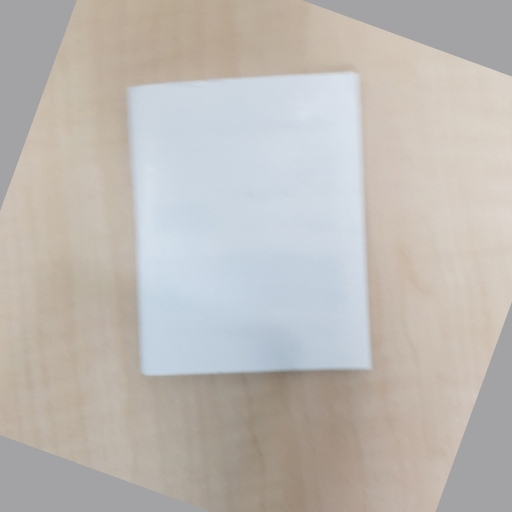Paper_2: (122, 67, 387, 398)
